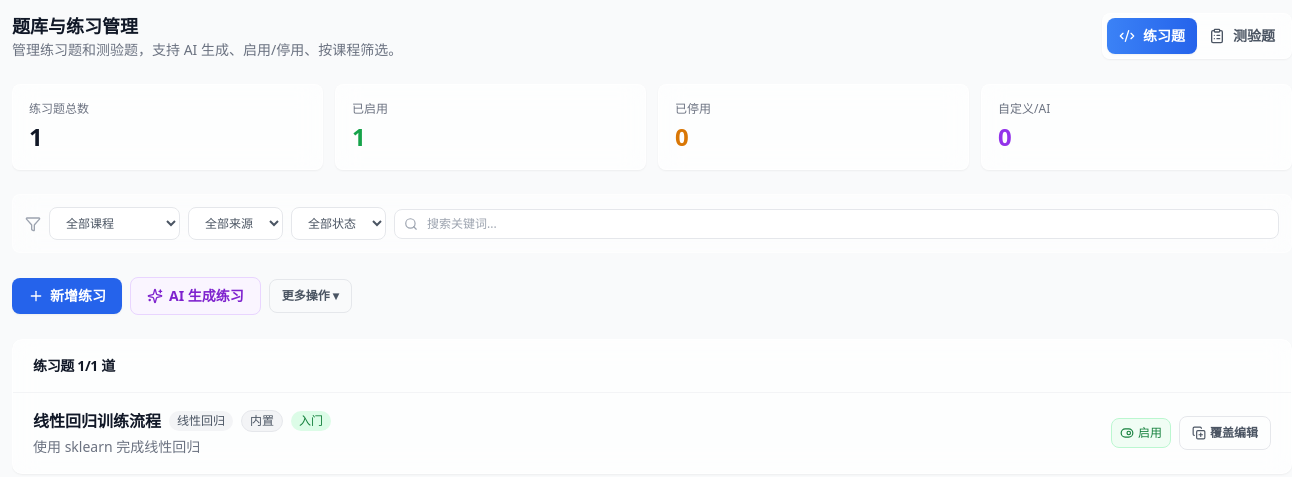
Test: AdminQuestionPanel › 筛选功能 › 按来源筛选
Step 1. Select "AI 生成" in the 2nd dropdown showing "全部来源" → (236, 224), box x1=188 y1=207 x2=283 y2=240
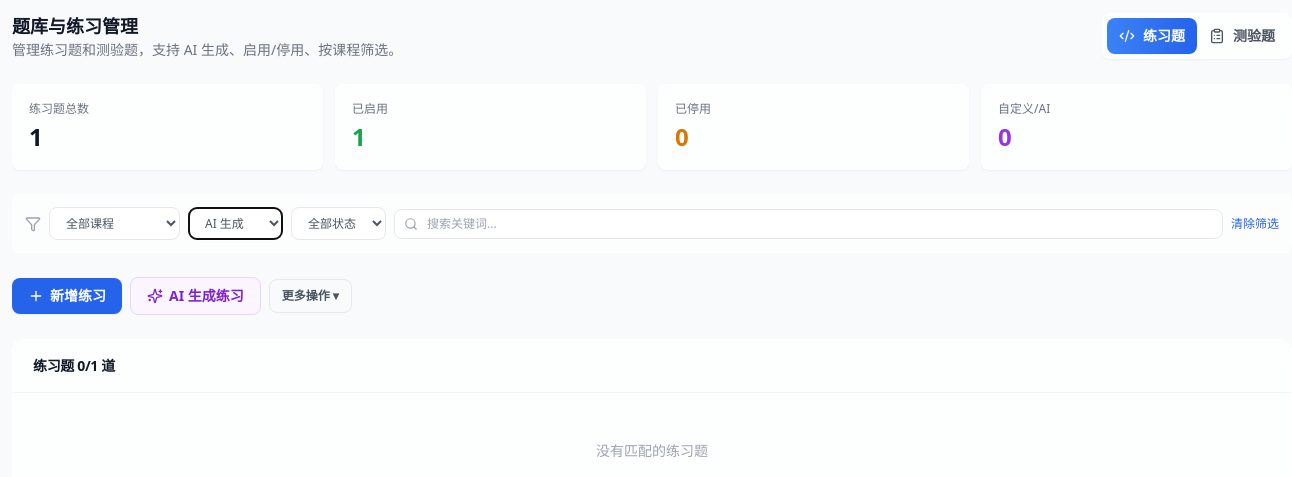
Now the text "没有匹配的练习题" is shown, box x1=596 y1=441 x2=708 y2=460
